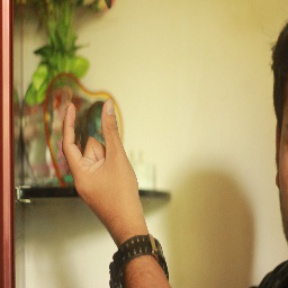U: (57, 93, 144, 209)
